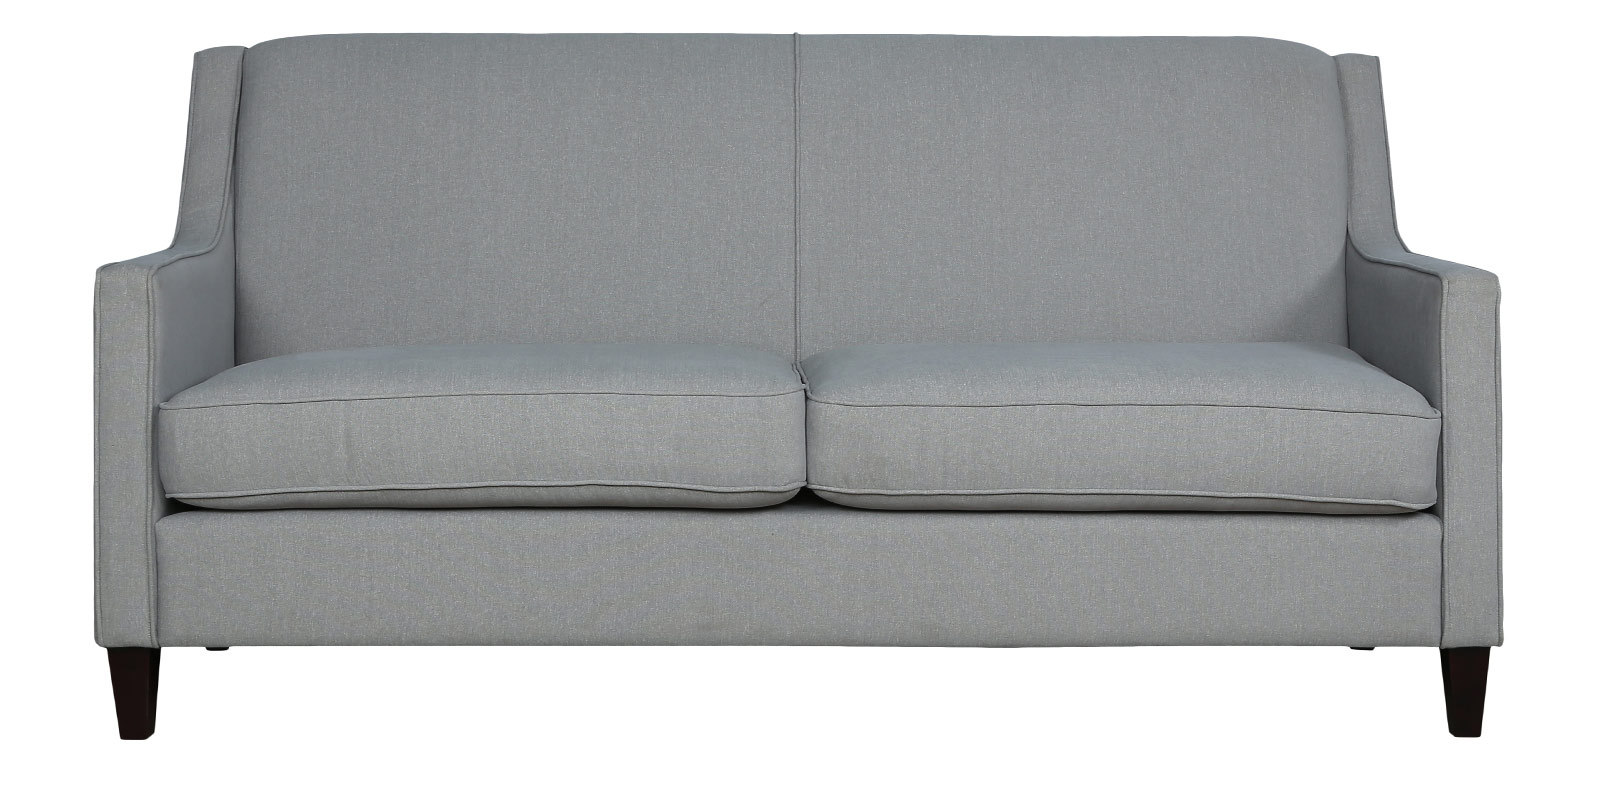Oscar Three Seater Sofa in Ash Grey Colour by CasaCraft: (92, 31, 1502, 741)
